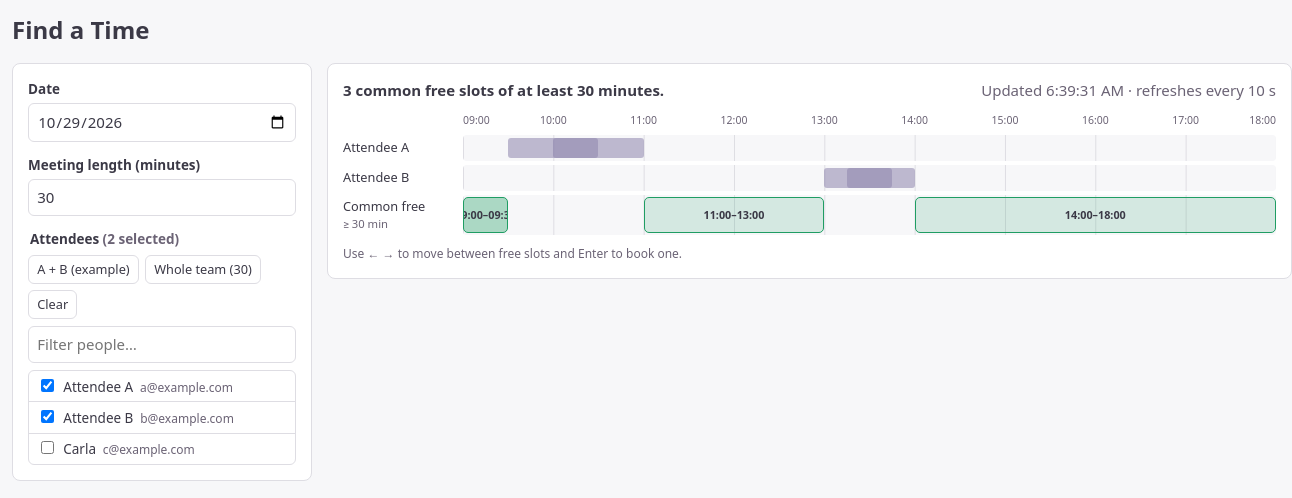
Scenario: FindATimePage › shows loading, not the previous result, while the new selection is in flight
What coordinates should you click on to do the following:
click the checkbox labelled "Carla c@example.com"
I would click on:
 (47, 448)
Its box is top-left (40, 441), bottom-right (54, 454).
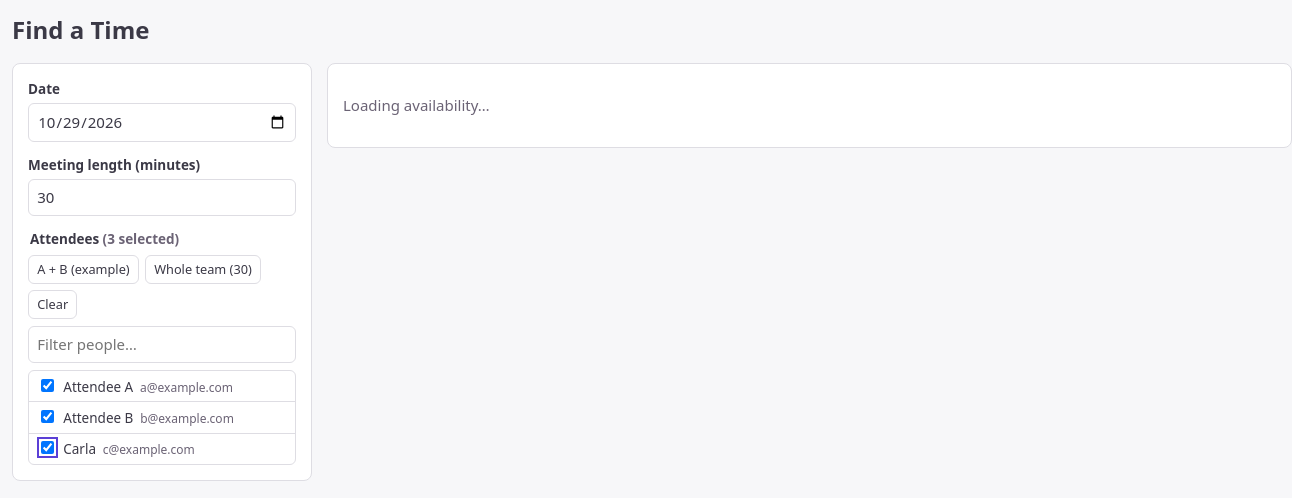
Check: no options are shown
Check: the message reads "Loading availability…", box top-left (343, 95), bottom-right (490, 115)
